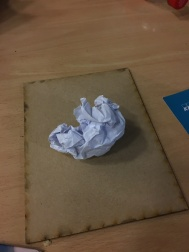paper_white: (38, 91, 138, 164)
